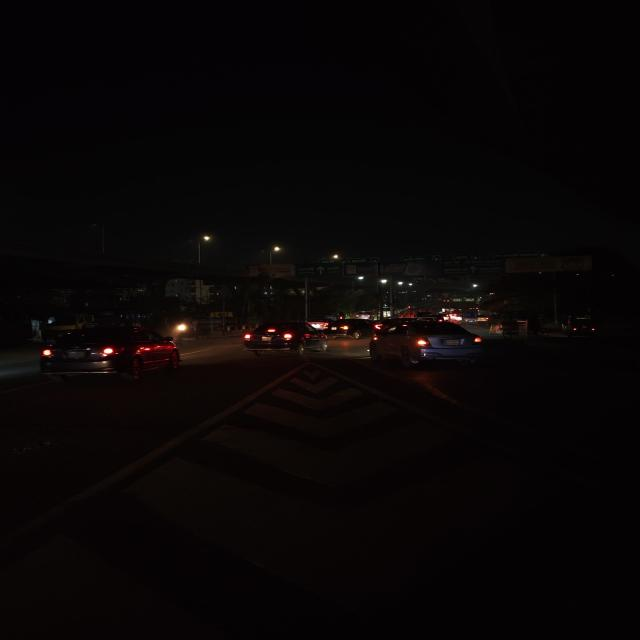car: (36, 323, 184, 383), (368, 318, 484, 369), (240, 319, 328, 353), (333, 317, 370, 337)
pickup_van: (460, 310, 480, 325)
rickshaw: (497, 320, 528, 340)
